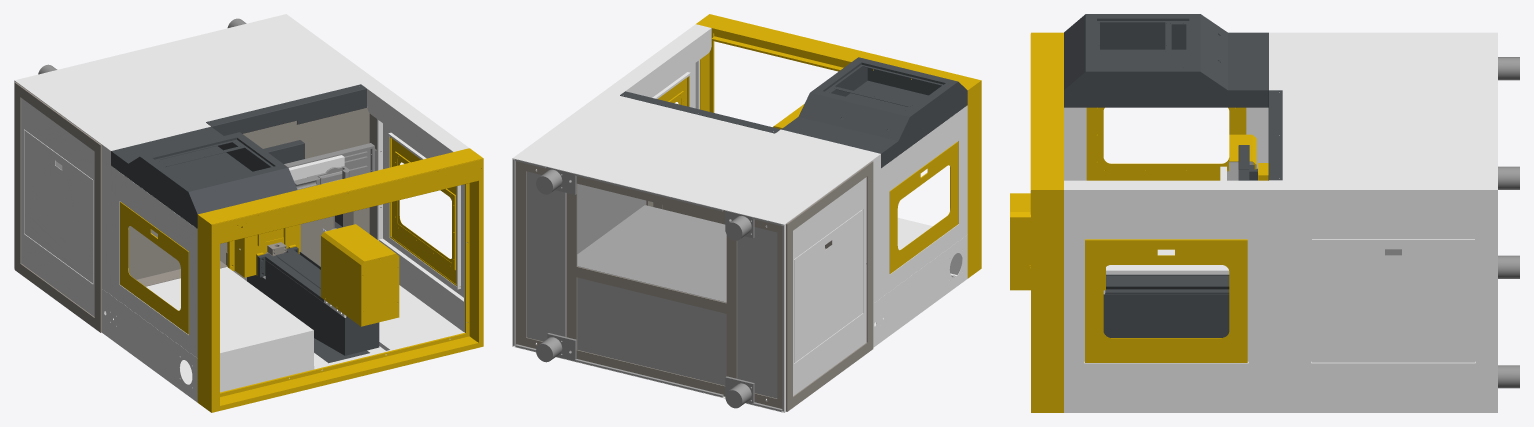
Rendered from VMC-300-l.obj.
3 renders of one model, left to right at view 1: azimuth 30°, elevation 25°; view 2: azimuth 150°, elevation 25°; view 3: azimuth 270°, elevation 25°, orthographic. The views are drawn at different scales.
Visible parts, largest first — view 1: Body1:2, Body1:22, Body1:3, Body1:21, Body1:5, Body5:1, Body1:25, Body1:24, Body1:20, Body5, Body1:1, Body1:59 (+11 smaller); view 2: Body1:2, Body5, Body1:5, Body1:41, Body1:44, Body1:22, Body1:25, Body1:40, Body1:39, Body1:20, Body1:3, Body1:21 (+12 smaller); view 3: Body1:2, Body1:21, Body1:26, Body1:5, Body1:22, Body2:3, Body1:1, Body2:4, Body1:20, Body1:37, Body1:59, Body1:32 (+7 smaller).
Boxes of the visible parts, bbox=[...] form: Body1:2: bbox=[14, 14, 382, 316]; Body1:22: bbox=[197, 148, 483, 412]; Body1:3: bbox=[102, 267, 313, 402]; Body1:21: bbox=[314, 85, 469, 370]; Body1:5: bbox=[111, 127, 297, 228]; Body5:1: bbox=[128, 107, 381, 286]; Body1:25: bbox=[24, 129, 93, 283]; Body1:24: bbox=[212, 159, 483, 245]; Body1:20: bbox=[111, 166, 197, 358]; Body5: bbox=[14, 82, 101, 332]; Body1:1: bbox=[247, 252, 379, 355]; Body1:59: bbox=[321, 224, 399, 326]; Body1:2: bbox=[512, 87, 880, 412]; Body5: bbox=[516, 161, 873, 411]; Body1:5: bbox=[781, 57, 967, 168]; Body1:41: bbox=[577, 277, 726, 385]; Body1:44: bbox=[577, 205, 726, 302]; Body1:22: bbox=[696, 14, 981, 278]; Body1:25: bbox=[794, 209, 862, 363]; Body1:40: bbox=[737, 225, 777, 400]; Body1:39: bbox=[526, 169, 565, 344]; Body1:20: bbox=[881, 105, 967, 297]; Body1:3: bbox=[873, 217, 967, 347]; Body1:21: bbox=[609, 24, 711, 109]; Body1:2: bbox=[1269, 32, 1497, 412]; Body1:21: bbox=[1064, 180, 1268, 412]; Body1:26: bbox=[1312, 239, 1474, 362]; Body1:5: bbox=[1064, 14, 1268, 107]; Body1:22: bbox=[1031, 32, 1063, 412]; Body2:3: bbox=[1085, 239, 1247, 362]; Body1:1: bbox=[1103, 274, 1229, 337]; Body2:4: bbox=[1086, 107, 1246, 180]; Body1:20: bbox=[1064, 107, 1268, 180]; Body1:37: bbox=[1105, 275, 1229, 294]; Body1:59: bbox=[1010, 193, 1105, 290]; Body1:32: bbox=[1095, 107, 1237, 171].
Bounding box in the file's own units: 1367 × 976 × 1864.
